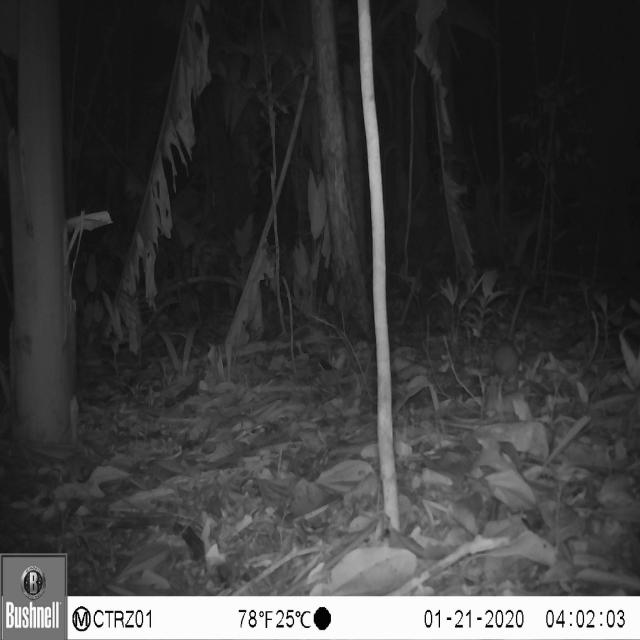Rodent: (471, 319, 544, 406)
